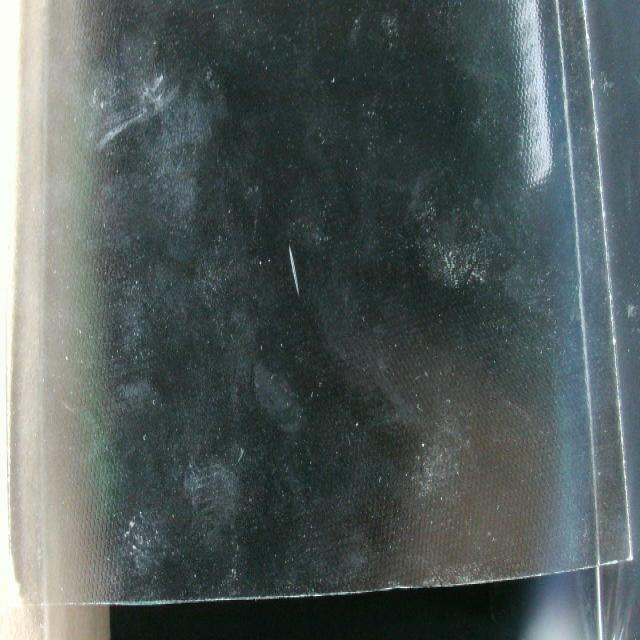edge_chip: (380, 573, 430, 602)
scratch: (279, 237, 305, 305)
